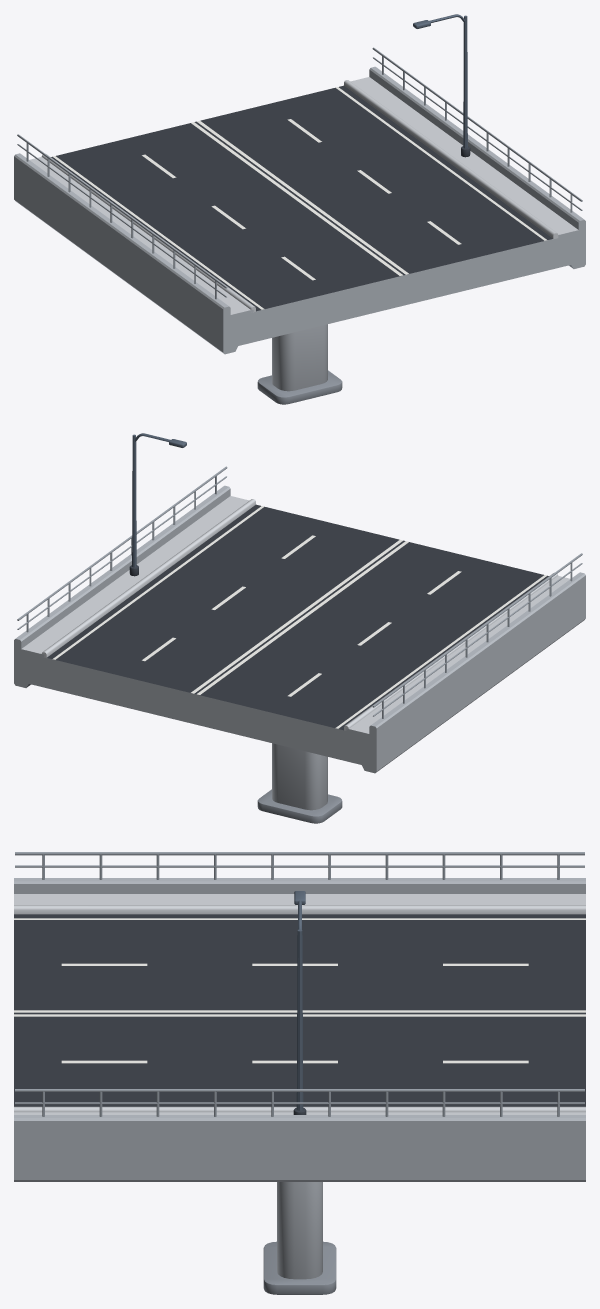
The model's file is viaduto_avenida.glb.
3 renders of one model, top to bottom at view 1: azimuth 30°, elevation 25°; view 2: azimuth 150°, elevation 25°; view 3: azimuth 270°, elevation 25°, orthographic. The views are drawn at different scales.
Visible parts, largest first — view 1: viaduto_avenida; view 2: viaduto_avenida; view 3: viaduto_avenida.
Boxes of the visible parts, <box> form: viaduto_avenida: <box>14,14,585,404</box>; viaduto_avenida: <box>14,433,585,823</box>; viaduto_avenida: <box>14,852,585,1294</box>.
Size of the model in its own units: 15 by 13.3 by 15.
Materials: 2 (1 with a texture image).
